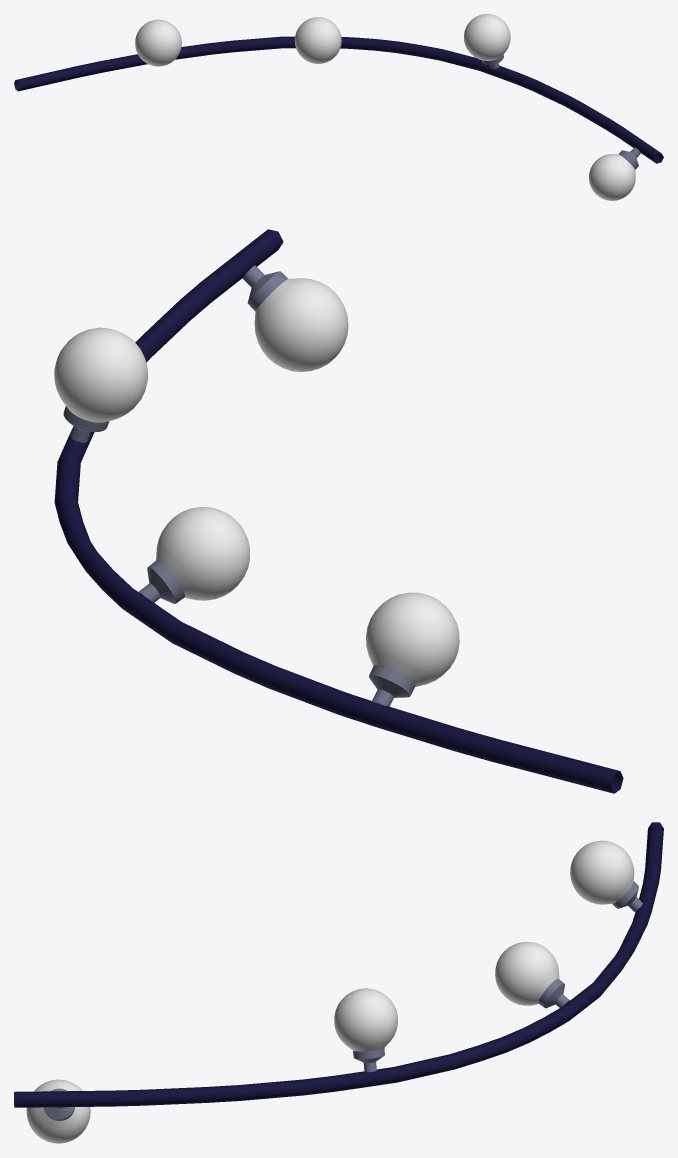
Rendered from Guirlande courbe v2.002.fbx.
3 views of the same model, one above another, from view 1: azimuth 30°, elevation 25°; view 2: azimuth 150°, elevation 25°; view 3: azimuth 270°, elevation 25° (orthographic). The views are drawn at different scales.
Visible parts, largest first — view 1: BézierCurve; view 2: BézierCurve; view 3: BézierCurve.
Boxes of the visible parts, box(x1,y1,x2,y2) form: BézierCurve: box(14, 14, 663, 200); BézierCurve: box(54, 229, 623, 793); BézierCurve: box(14, 822, 663, 1143).
Size of the model in its own units: 203 by 203 by 48.44.
